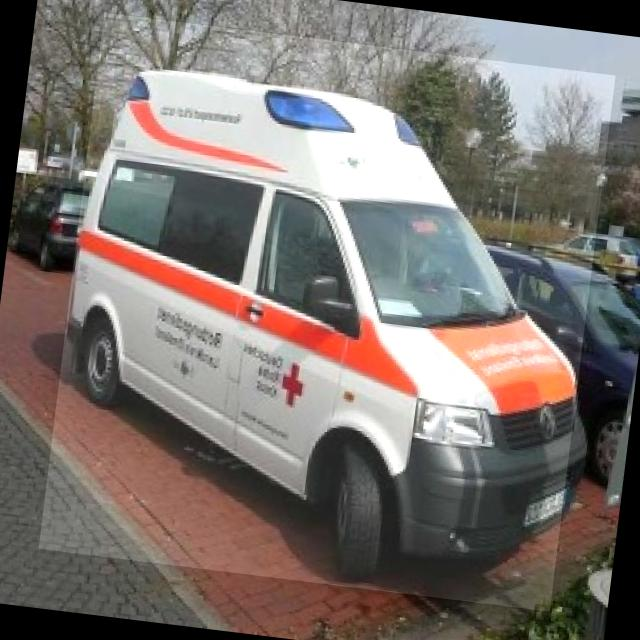ambulance: (38, 12, 615, 611)
